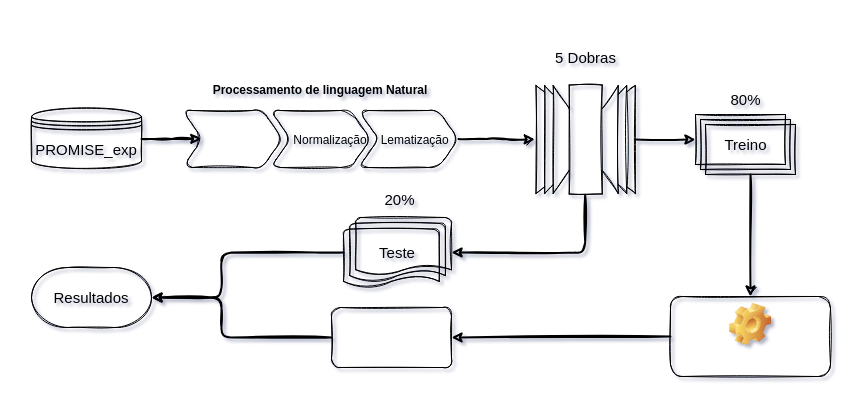
The diagram is 867 pixels wide and 419 high, and some of its shapes have lost their labels. Here are the shapes that lost their labels. From the top down, the centre of each, then its label:
pixel 232 139: Tokenização
pixel 391 337: Modelos
pixel 750 336: Hiperparametrização
